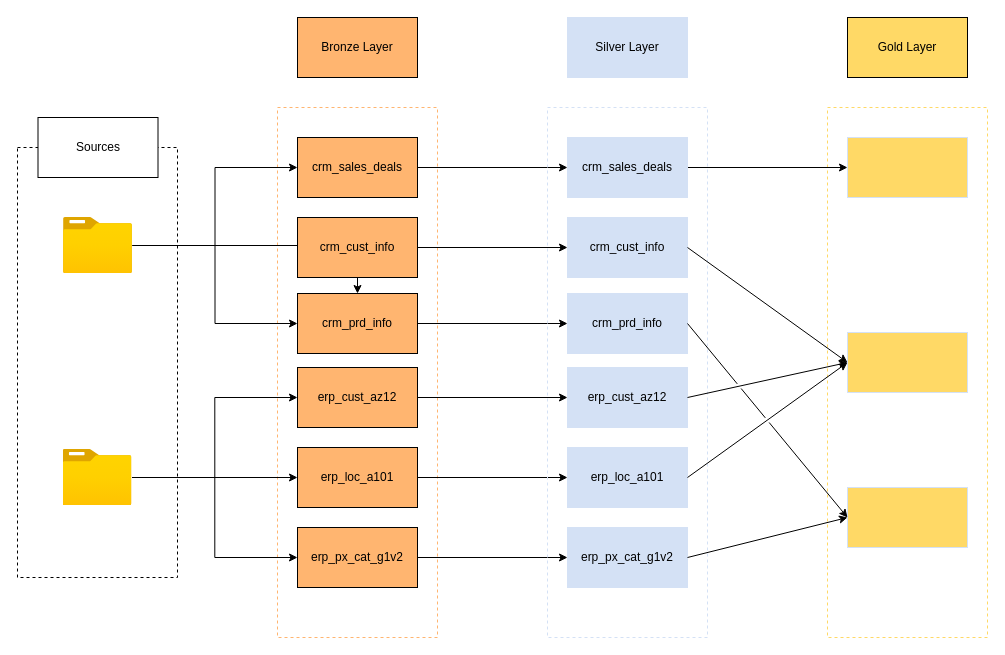
Some shapes in this 1005 by 655 pixel diagram are drawn without their labels. The shapes that lost their labels are listed below. From the top down, each one's box as (x1, y1, x2, y2) in pixels, then its label:
(846, 136, 968, 198): fact_sales
(63, 217, 132, 273): CRM
(846, 332, 968, 392): dim_customers
(62, 449, 132, 505): ERP
(846, 486, 968, 548): dim_products
